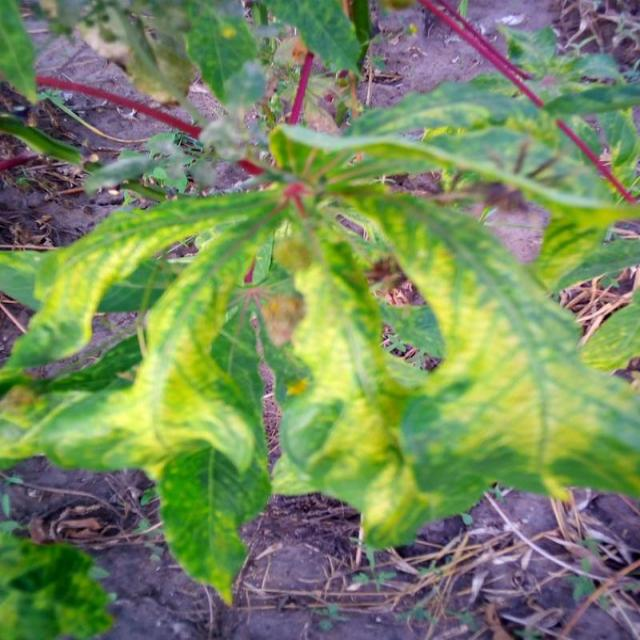cassava leaf: (0, 13, 639, 609)
